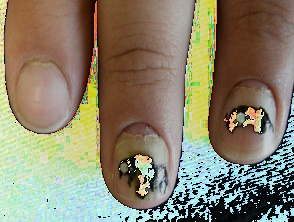SJS-TEN: (103, 115, 184, 213), (213, 76, 284, 152)
